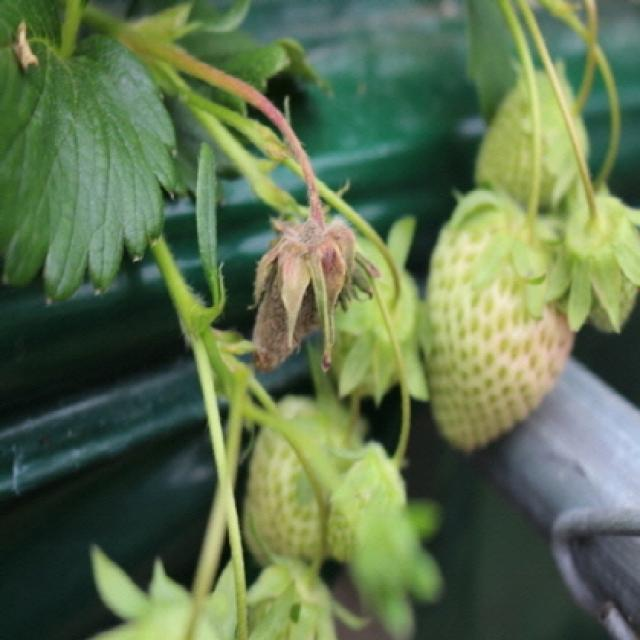Gray Mold: (248, 158, 382, 373)
